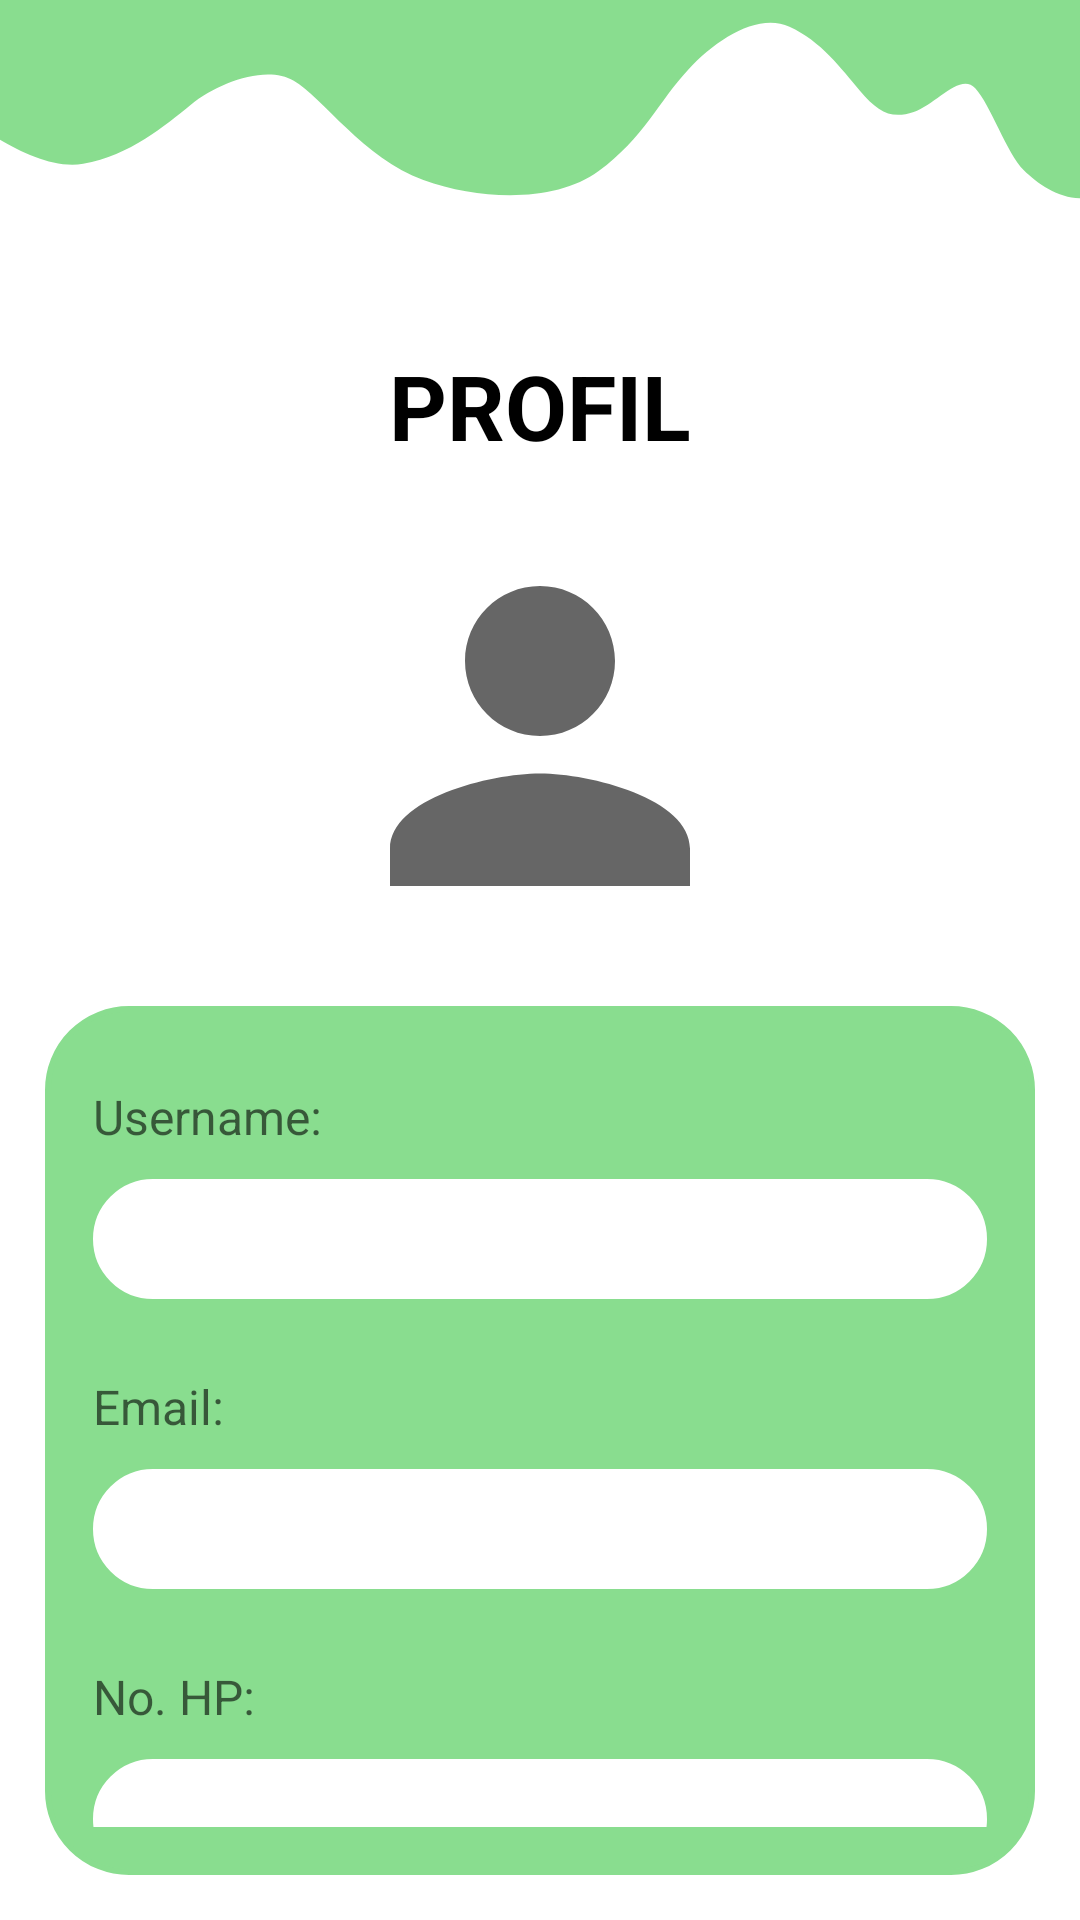

Screen size 1080px x 1920px. Icon name, then its box in pixels as (x1, y1, x2, y2):
person: (390, 586, 690, 886)
